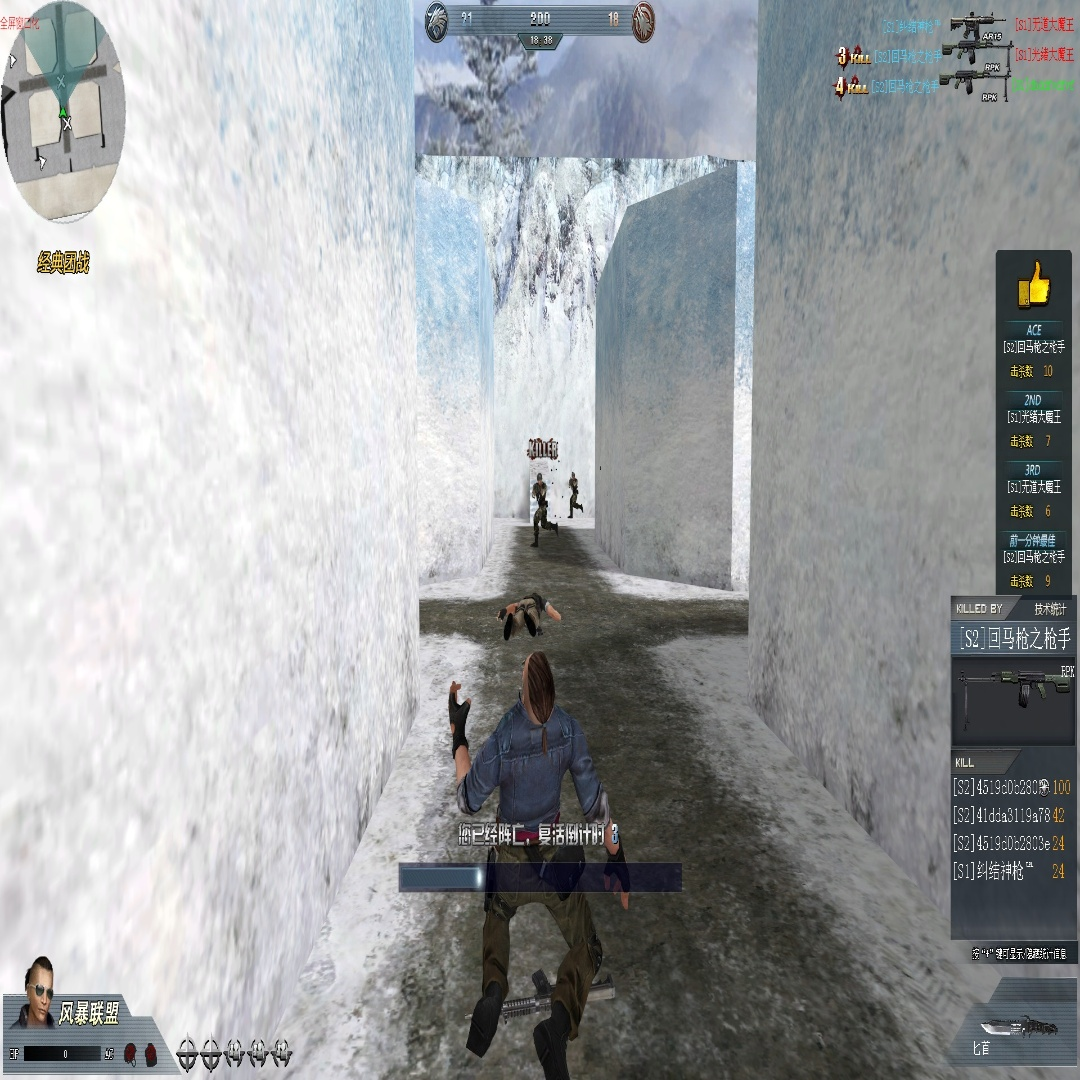ct: (532, 473, 548, 544), (567, 470, 583, 517)
head: (537, 473, 543, 486), (572, 472, 575, 481)
